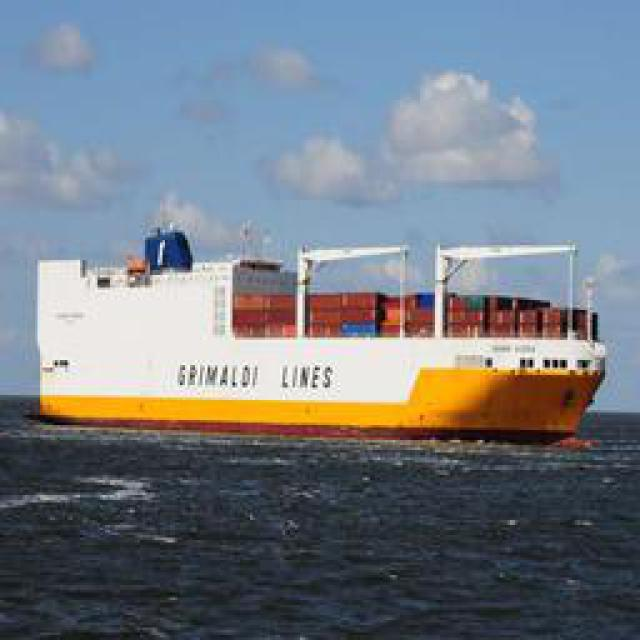Ship: (38, 220, 603, 450)
